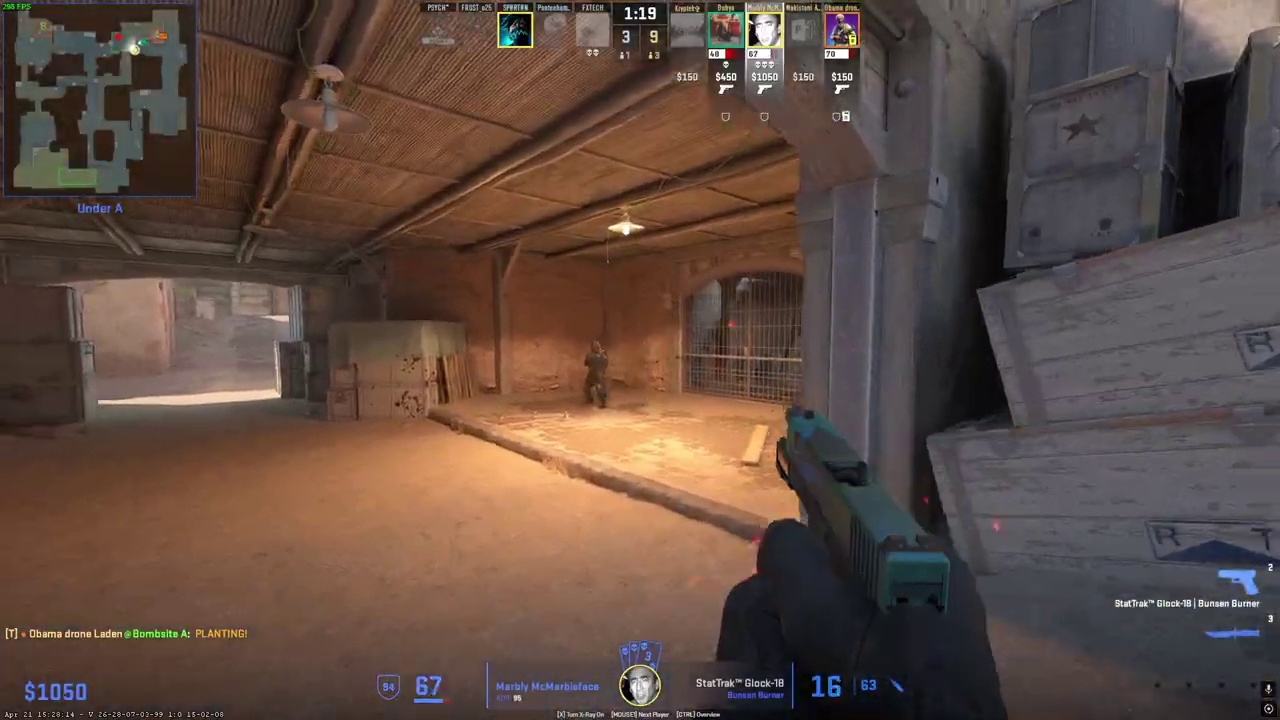CT: (583, 340, 608, 408)
